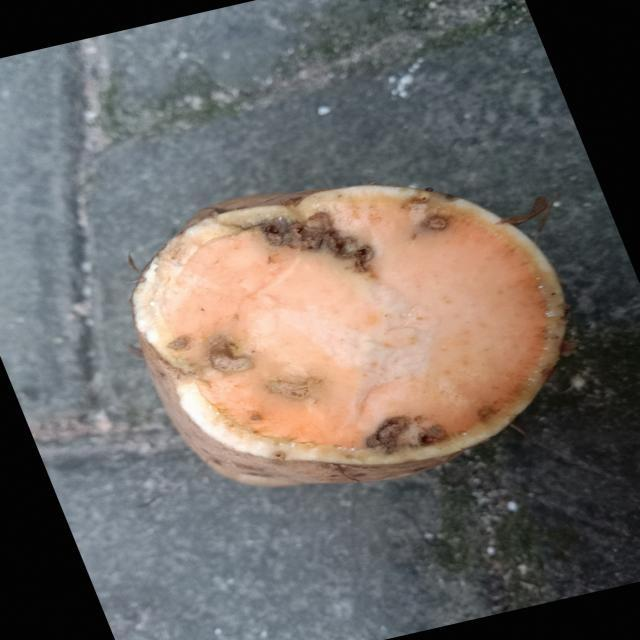Sick Sweet Potato_Tuber Rot: (132, 185, 565, 486)
